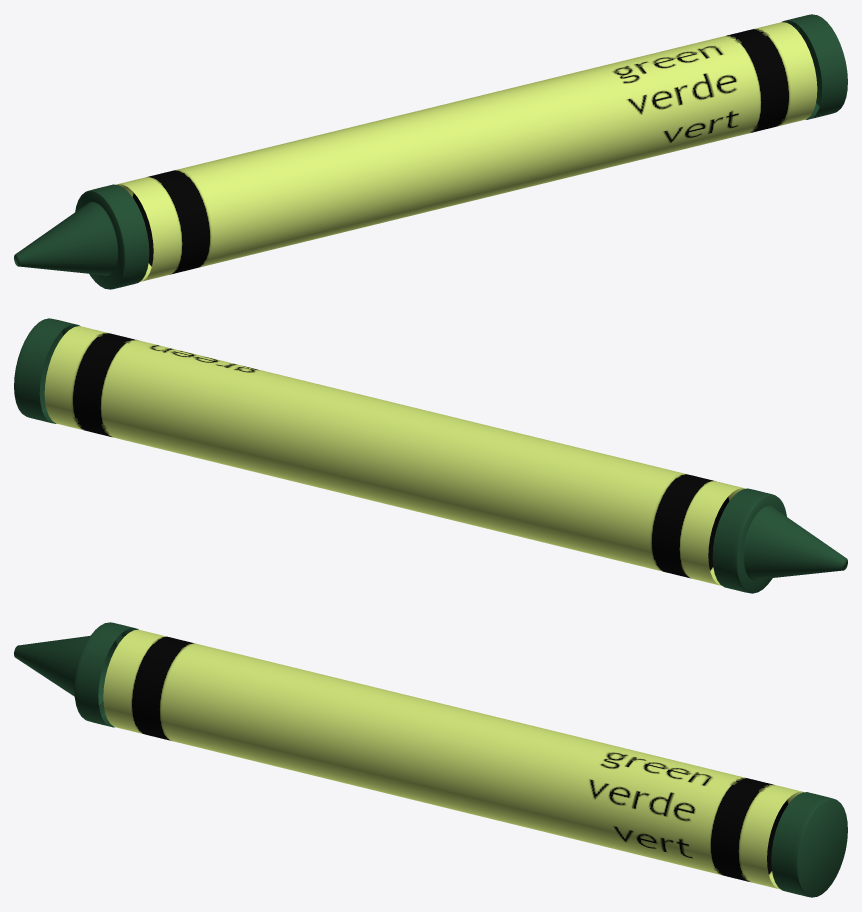
The model's file is pencil.glb.
3 views of the same model, one above another, from view 1: azimuth 30°, elevation 25°; view 2: azimuth 150°, elevation 25°; view 3: azimuth 330°, elevation 25° (orthographic).
Visible parts, largest first — view 1: crayon; view 2: crayon; view 3: crayon.
Part boxes in pixels (box(x1,y1,x2,y2)): crayon: box(14, 14, 847, 289); crayon: box(14, 318, 847, 593); crayon: box(14, 622, 847, 897).
Bounding box in the file's own units: 0.5974 × 0.0655 × 0.0655.
Materials: 2 (1 with a texture image).
